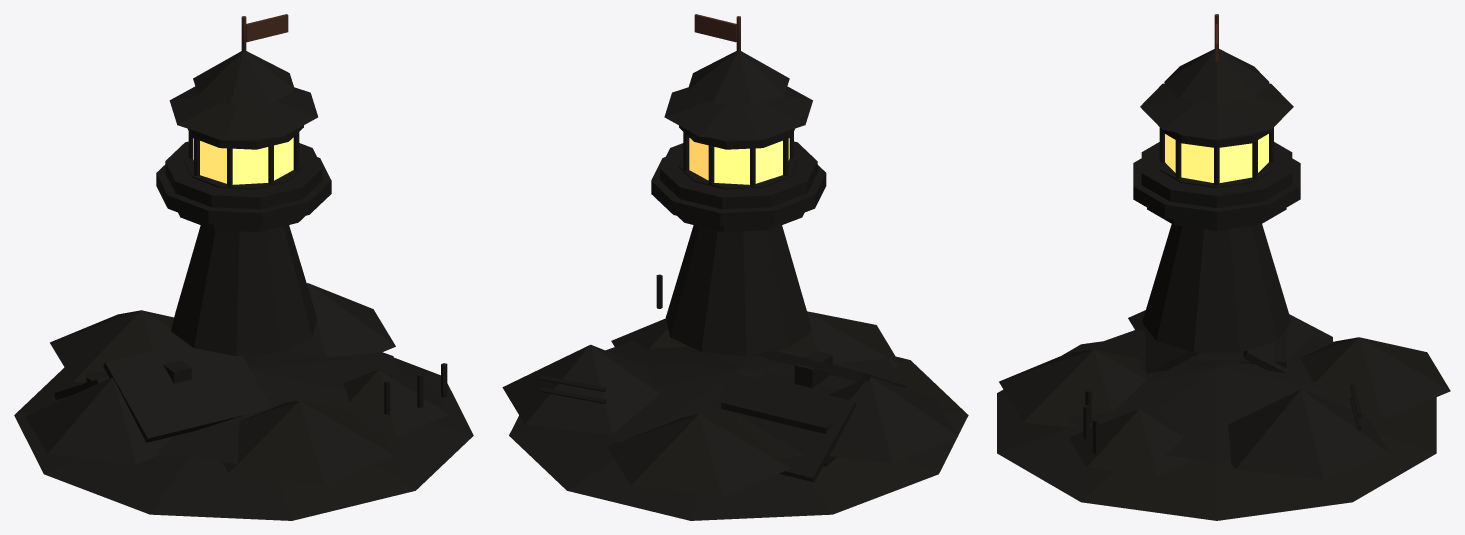
File: stylized_lighthouse_lowpoly.glb
3 renders of one model, left to right at view 1: azimuth 30°, elevation 25°; view 2: azimuth 150°, elevation 25°; view 3: azimuth 270°, elevation 25°, orthographic.
Parts seen in each view (by area): view 1: Lighthouse_Stone_Wood, Lantern_Glass; view 2: Lighthouse_Stone_Wood, Lantern_Glass; view 3: Lighthouse_Stone_Wood, Lantern_Glass.
Part boxes in pixels (box(x1,y1,x2,y2)): Lighthouse_Stone_Wood: box(14, 14, 473, 520); Lantern_Glass: box(193, 137, 293, 184); Lighthouse_Stone_Wood: box(502, 14, 968, 520); Lantern_Glass: box(689, 138, 789, 184); Lighthouse_Stone_Wood: box(997, 14, 1450, 520); Lantern_Glass: box(1165, 134, 1268, 182).
Bounding box in the file's own units: 6.42 × 6.5 × 6.18.
